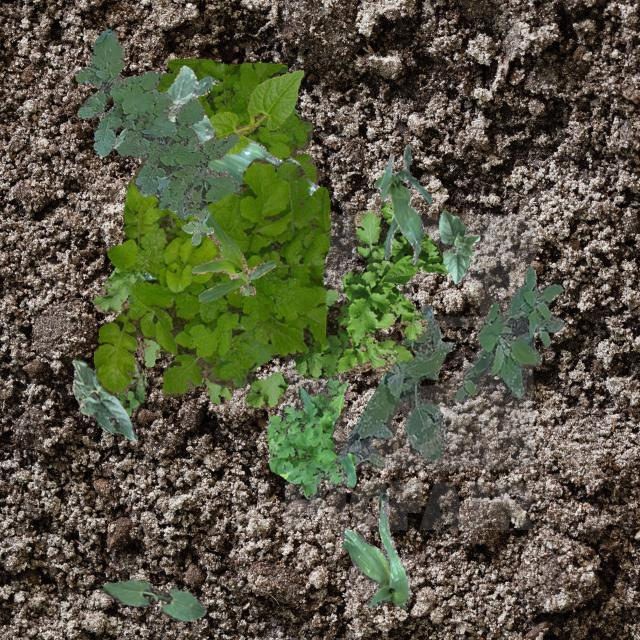crop: (144, 74, 318, 280), (113, 65, 215, 146), (339, 489, 408, 608), (208, 70, 302, 154), (190, 212, 274, 302), (372, 143, 430, 264), (72, 358, 136, 440), (100, 578, 206, 620), (438, 210, 478, 282)
weed: (93, 156, 330, 398), (92, 266, 414, 408), (74, 28, 240, 218), (154, 57, 318, 182), (334, 200, 446, 374), (338, 304, 452, 466), (450, 266, 562, 400), (264, 374, 354, 498), (114, 358, 144, 416), (180, 208, 212, 245)
